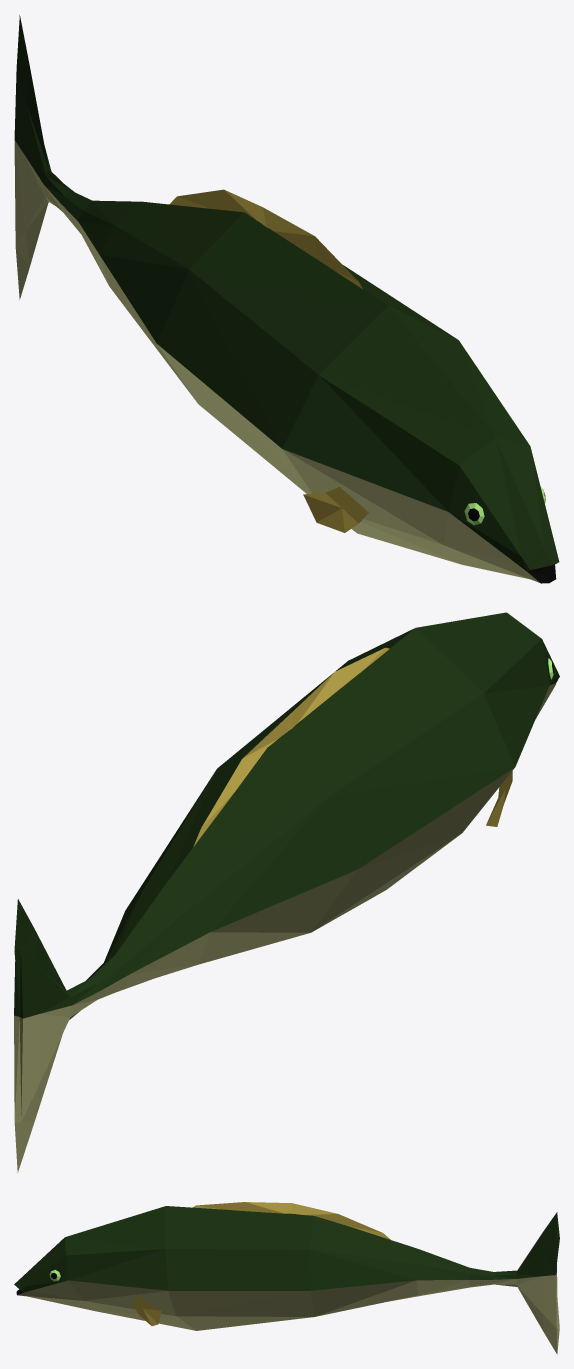
File: Minnnow_ioexperment_000016.obj
3 views of the same model, one above another, from view 1: azimuth 30°, elevation 25°; view 2: azimuth 150°, elevation 25°; view 3: azimuth 270°, elevation 25° (orthographic). The views are drawn at different scales.
Bounding box in the file's own units: 0.6758 × 0.9146 × 3.04.
